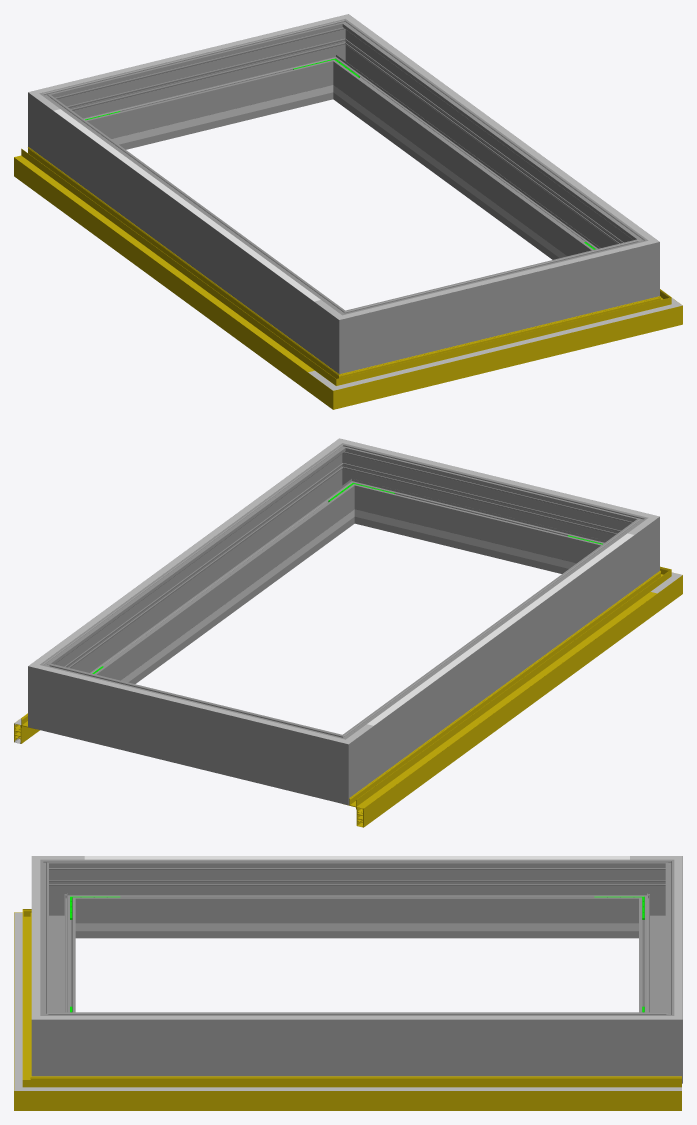
The picture shows the model from 3 angles, top to bottom: view 1: azimuth 30°, elevation 25°; view 2: azimuth 150°, elevation 25°; view 3: azimuth 270°, elevation 25°; orthographic projection. The views are drawn at different scales.
Visible parts, largest first — view 1: 3DGeom-298, 3DGeom-269, 3DGeom-277, 3DGeom-299, 3DGeom-85, 3DGeom-90, 3DGeom-271, 3DGeom-291, 3DGeom-285, 3DGeom-105, 3DGeom-279, 3DGeom-86 (+8 smaller); view 2: 3DGeom-298, 3DGeom-269, 3DGeom-299, 3DGeom-277, 3DGeom-85, 3DGeom-279, 3DGeom-285, 3DGeom-291, 3DGeom-105, 3DGeom-271, 3DGeom-314, 3DGeom-304 (+5 smaller); view 3: 3DGeom-269, 3DGeom-298, 3DGeom-97, 3DGeom-277, 3DGeom-233, 3DGeom-299, 3DGeom-291, 3DGeom-285, 3DGeom-271, 3DGeom-279, 3DGeom-98, 3DGeom-304 (+10 smaller).
Part boxes in pixels (<box>): 3DGeom-298: <box>337,34,627,259</box>; 3DGeom-269: <box>53,107,328,355</box>; 3DGeom-277: <box>76,28,325,149</box>; 3DGeom-299: <box>375,246,616,363</box>; 3DGeom-85: <box>14,147,321,391</box>; 3DGeom-90: <box>368,303,639,398</box>; 3DGeom-271: <box>314,298,382,374</box>; 3DGeom-291: <box>608,224,659,306</box>; 3DGeom-285: <box>309,14,372,101</box>; 3DGeom-105: <box>14,155,314,372</box>; 3DGeom-279: <box>28,84,92,164</box>; 3DGeom-86: <box>308,362,376,409</box>; 3DGeom-298: <box>55,458,350,683</box>; 3DGeom-269: <box>360,531,634,779</box>; 3DGeom-299: <box>362,452,611,573</box>; 3DGeom-277: <box>72,671,312,794</box>; 3DGeom-85: <box>343,583,657,827</box>; 3DGeom-279: <box>305,722,373,805</box>; 3DGeom-285: <box>28,649,79,737</box>; 3DGeom-291: <box>317,439,378,526</box>; 3DGeom-105: <box>357,592,656,809</box>; 3DGeom-271: <box>595,509,659,588</box>; 3DGeom-314: <box>367,533,633,725</box>; 3DGeom-304: <box>54,457,320,649</box>; 3DGeom-269: <box>84,859,630,938</box>; 3DGeom-298: <box>84,1012,630,1076</box>; 3DGeom-97: <box>66,1076,681,1110</box>; 3DGeom-277: <box>639,878,682,1012</box>; 3DGeom-233: <box>126,923,587,930</box>; 3DGeom-299: <box>40,878,75,1012</box>; 3DGeom-291: <box>31,997,84,1076</box>; 3DGeom-285: <box>630,997,682,1083</box>; 3DGeom-271: <box>40,859,84,938</box>; 3DGeom-279: <box>630,856,682,938</box>; 3DGeom-98: <box>67,1087,681,1090</box>; 3DGeom-304: <box>84,1016,629,1019</box>.
Size of the model in its own units: 1.22 by 0.2667 by 1.93.
